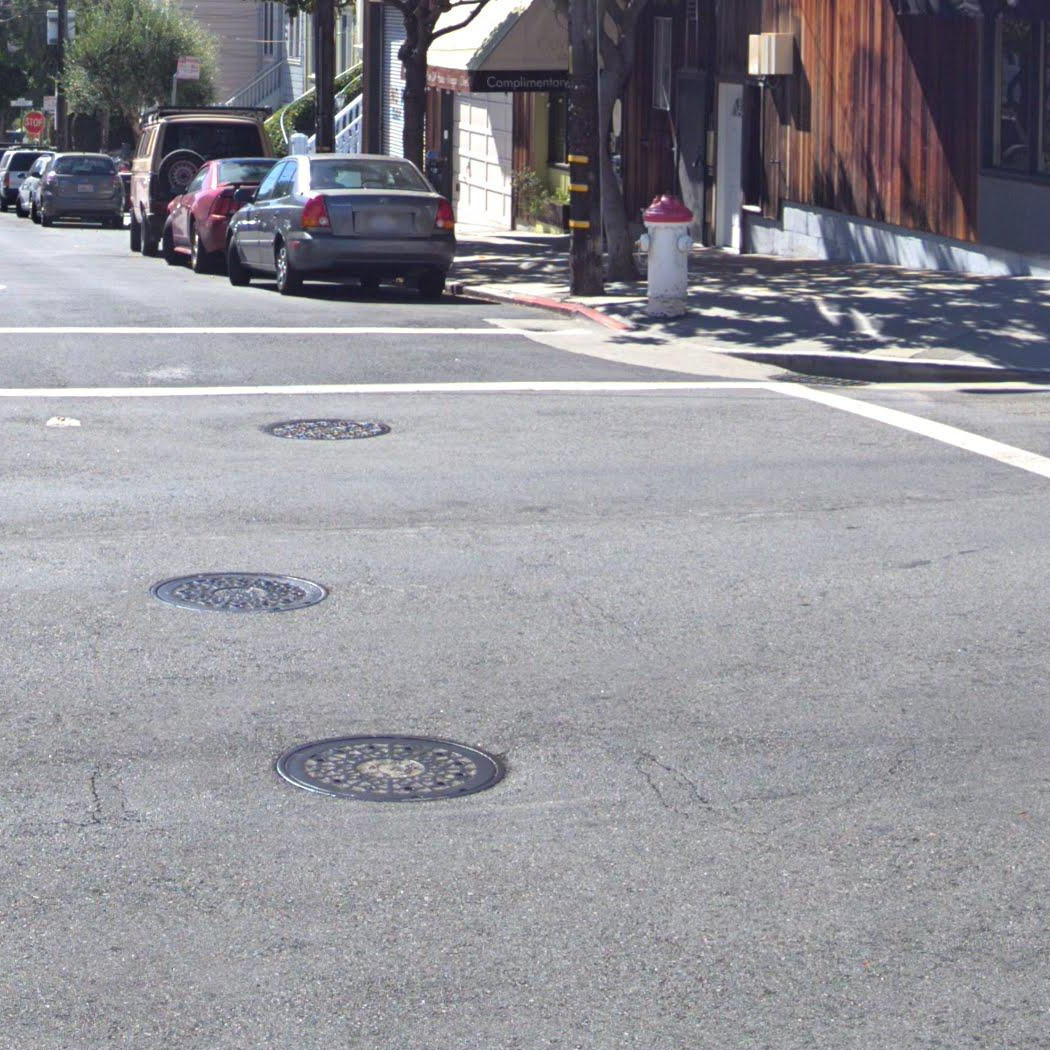No Parking: (176, 54, 202, 81)
